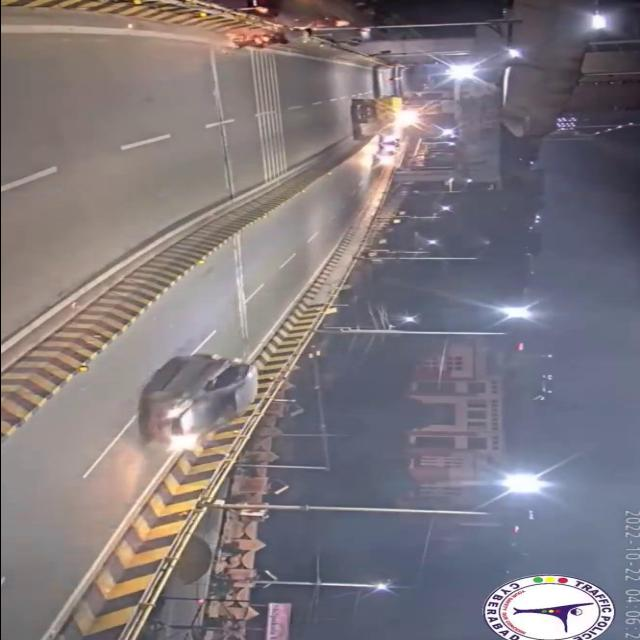accident: (222, 26, 321, 54)
